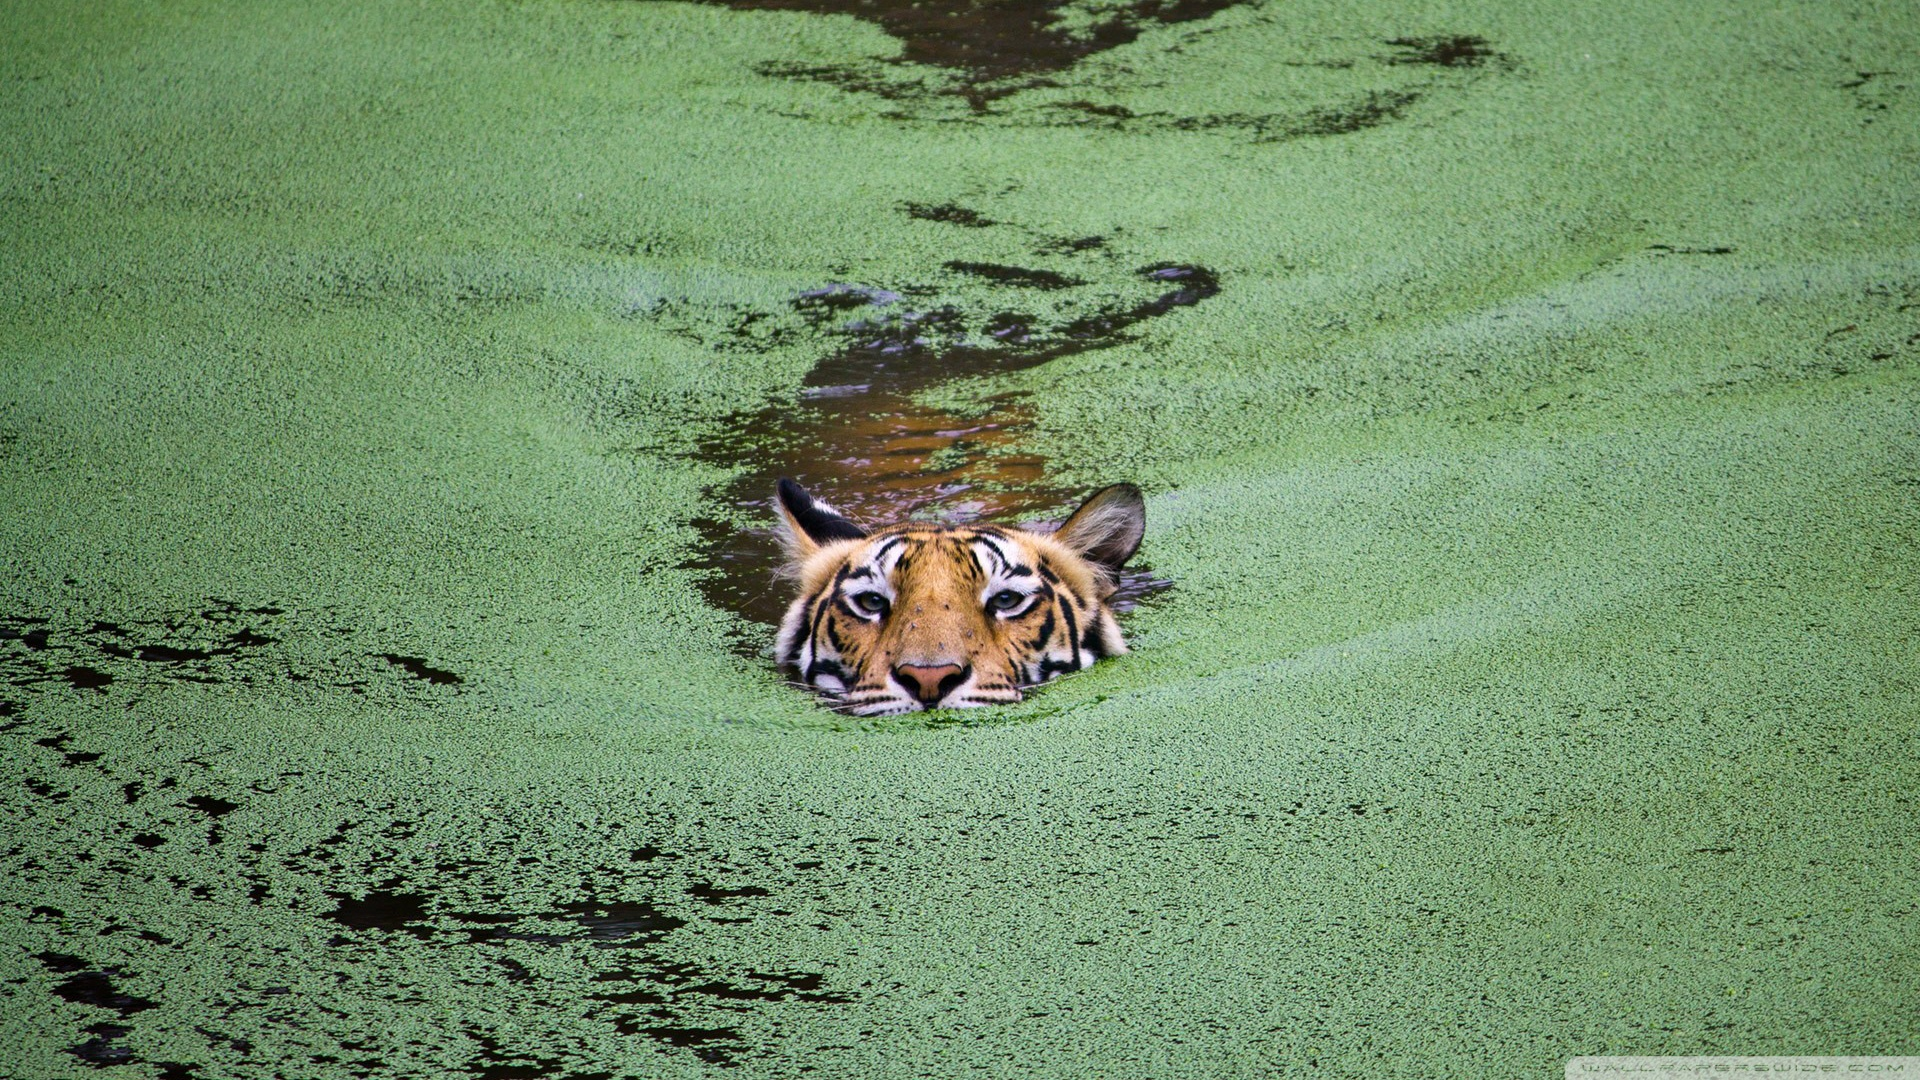tiger: (676, 471, 1209, 733)
